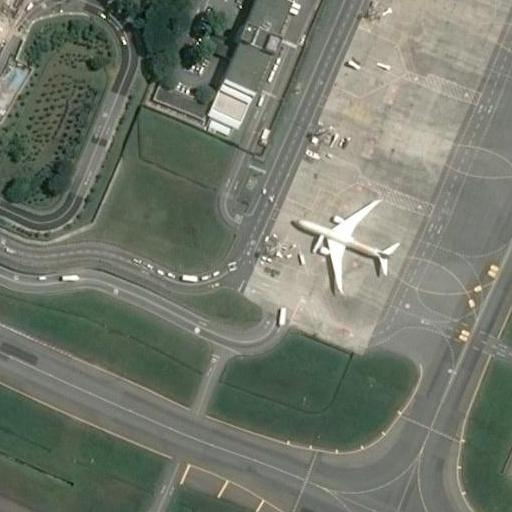Aircraft: (289, 196, 399, 291)
